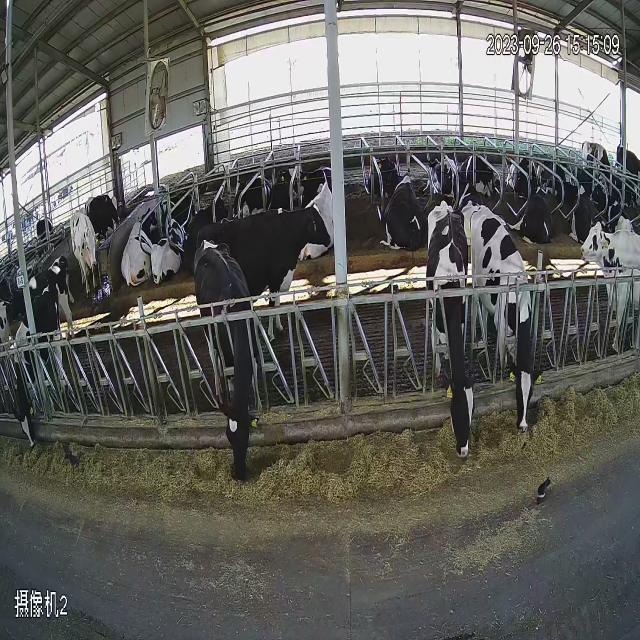feeding: (195, 236, 272, 514), (470, 194, 542, 451), (424, 195, 480, 473), (12, 241, 66, 484)
lying down: (380, 162, 426, 258), (119, 205, 162, 288), (150, 212, 188, 286)
standing: (571, 212, 640, 368), (66, 205, 106, 316)
